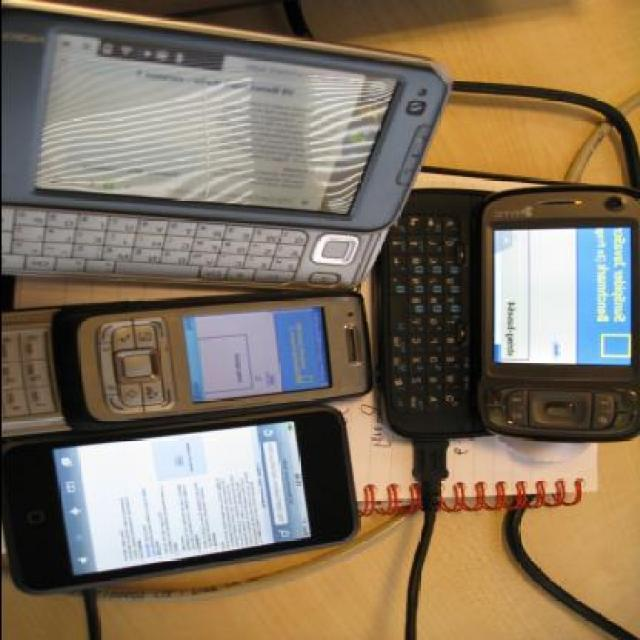phone: (0, 402, 363, 596), (374, 188, 640, 445), (56, 286, 373, 432)
